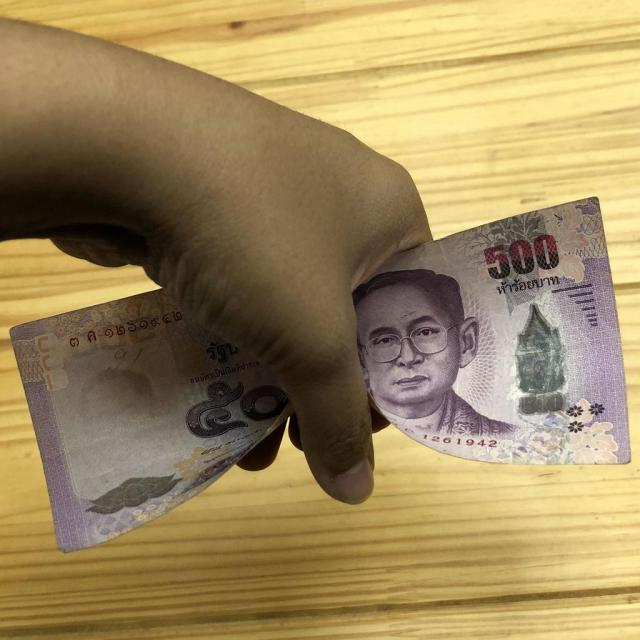THAI500: (11, 290, 301, 551), (353, 198, 629, 464)
